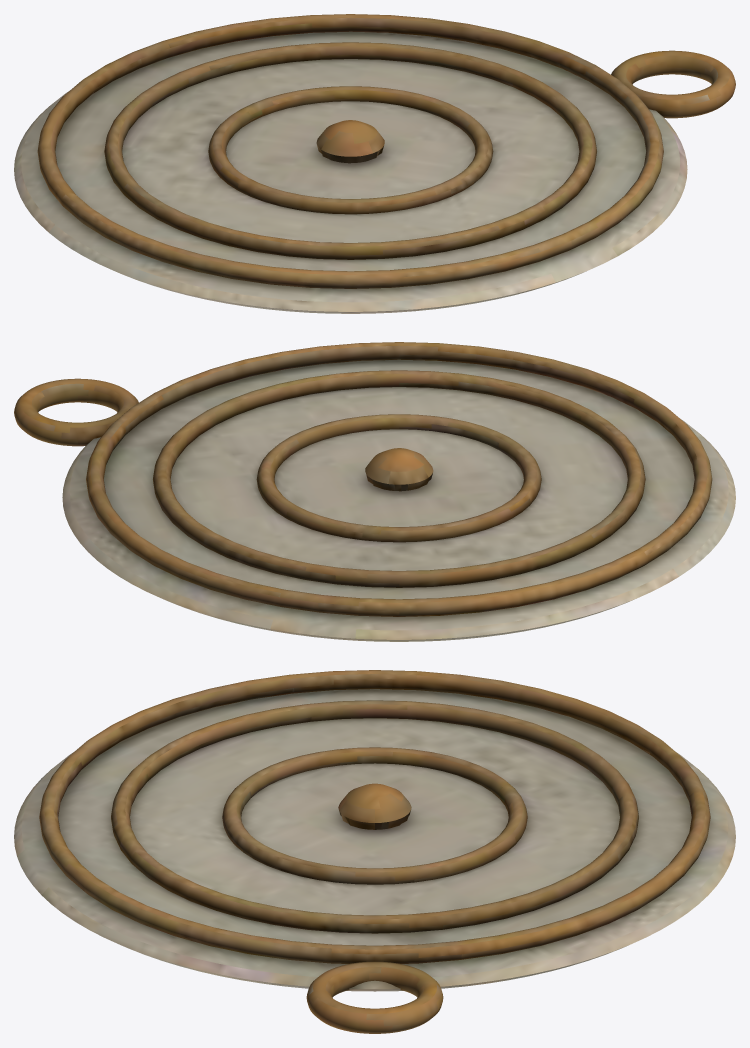
Rendered from bronze_mirror.glb.
3 views of the same model, one above another, from view 1: azimuth 30°, elevation 25°; view 2: azimuth 150°, elevation 25°; view 3: azimuth 270°, elevation 25° (orthographic). The views are drawn at different scales.
Visible parts, largest first — view 1: bronze_mirror; view 2: bronze_mirror; view 3: bronze_mirror.
Part boxes in pixels (x1,y1,x2,y2): bronze_mirror: (14, 14, 735, 313); bronze_mirror: (14, 342, 735, 641); bronze_mirror: (14, 670, 735, 1033).
Bounding box in the file's own units: 0.104 × 0.00897 × 0.0907.
1 material, 1 textured.
